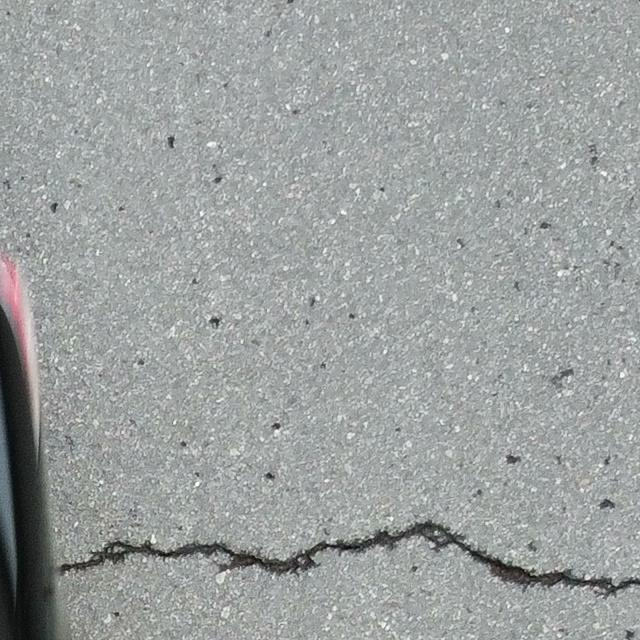TransverseCrack: (57, 519, 640, 599)
